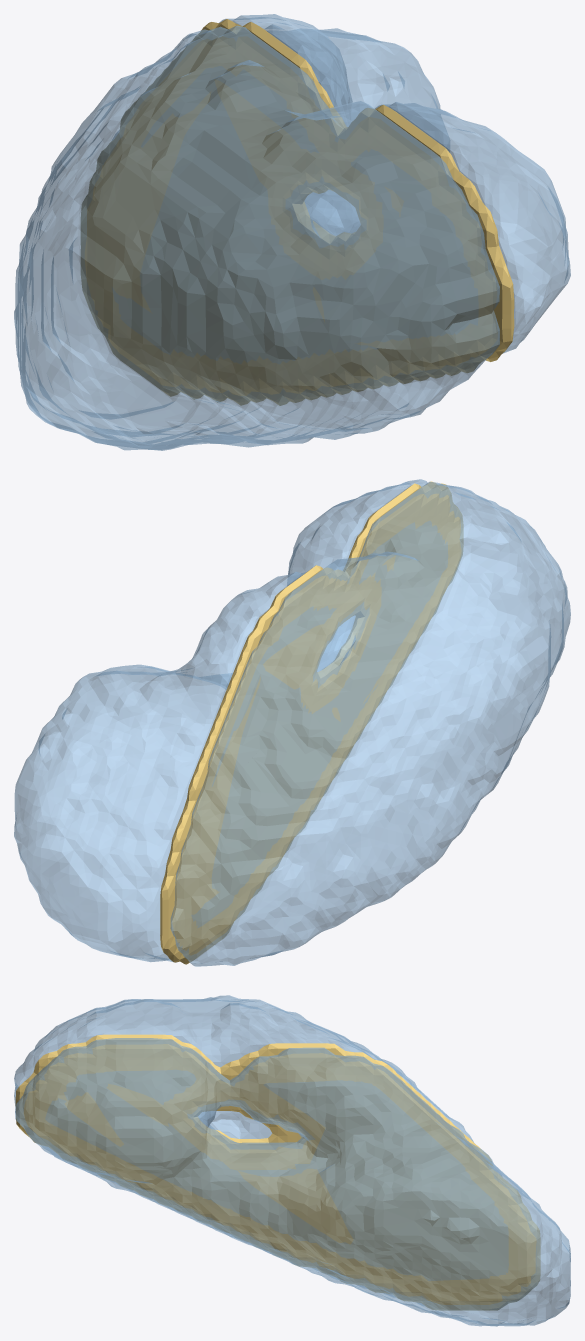
Rendered from prompt.glb.
3 renders of one model, top to bottom at view 1: azimuth 30°, elevation 25°; view 2: azimuth 150°, elevation 25°; view 3: azimuth 270°, elevation 25°, orthographic. The views are drawn at different scales.
Visible parts, largest first — view 1: world; view 2: world; view 3: world.
Part boxes in pixels (bbox=[...]): world: bbox=[14, 14, 570, 450]; world: bbox=[14, 479, 570, 966]; world: bbox=[14, 995, 570, 1326].
Size of the model in its own units: 0.5788 by 0.503 by 0.9091.
